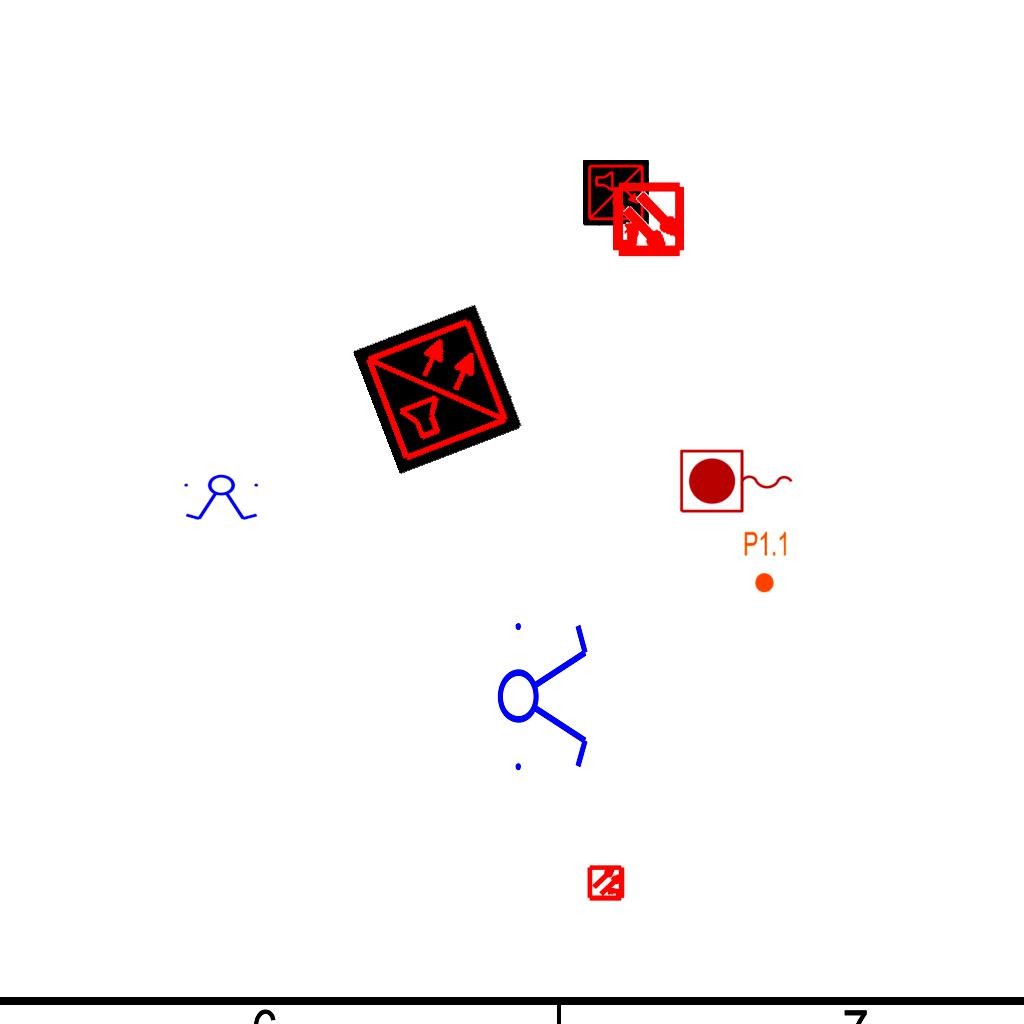Downlight_LED_Einbauleuchten_Flur: (743, 530, 789, 594)
OKW_Multisensormelder_(Kombination_optischer_Rauch-Kahlenmonoxid_Waerme-Melder): (352, 303, 524, 475), (583, 160, 649, 226)
OT_Multisensormelder_(Kombination_RMO_WMD): (592, 165, 705, 278), (579, 855, 635, 911)
Serienschalter: (496, 611, 592, 779), (180, 474, 264, 522)
Zugtaster: (676, 446, 798, 518)
